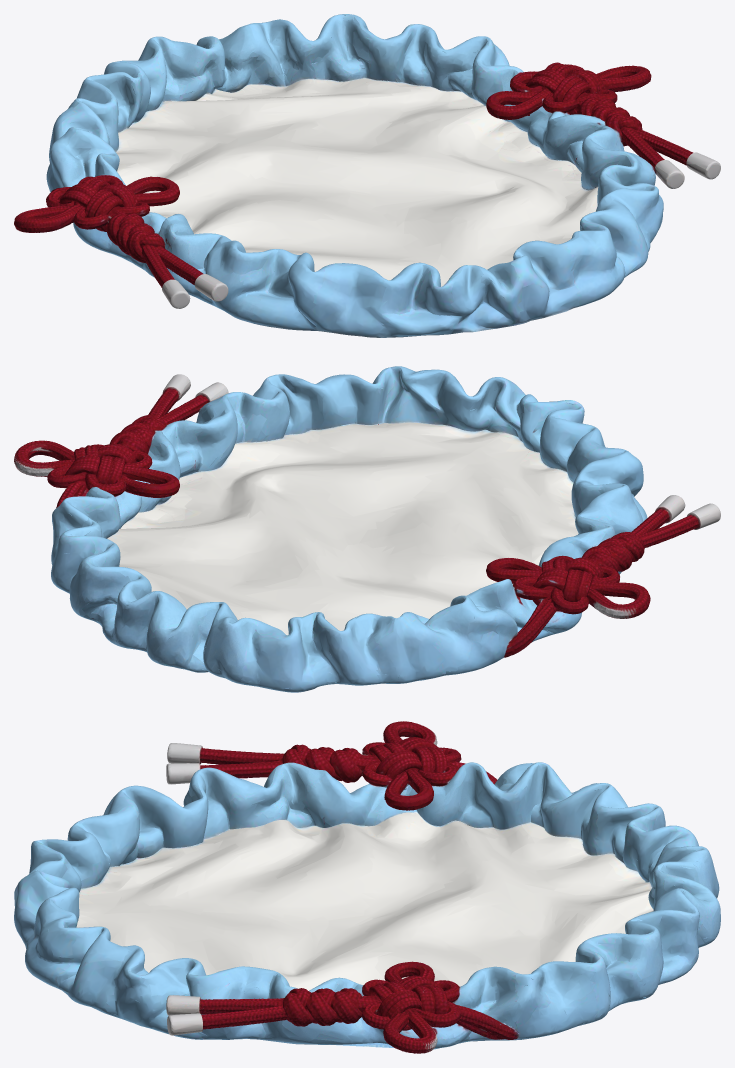
The model's file is cheonghong-open.glb.
3 views of the same model, one above another, from view 1: azimuth 30°, elevation 25°; view 2: azimuth 150°, elevation 25°; view 3: azimuth 270°, elevation 25° (orthographic). The views are drawn at different scales.
Parts seen in each view (by area): view 1: pouch; view 2: pouch; view 3: pouch.
Part boxes in pixels (<box>): pouch: <box>14,14,720,337</box>; pouch: <box>14,366,720,692</box>; pouch: <box>14,721,720,1053</box>.
Size of the model in its own units: 1.9 by 0.1857 by 1.76.
1 material, 1 textured.
